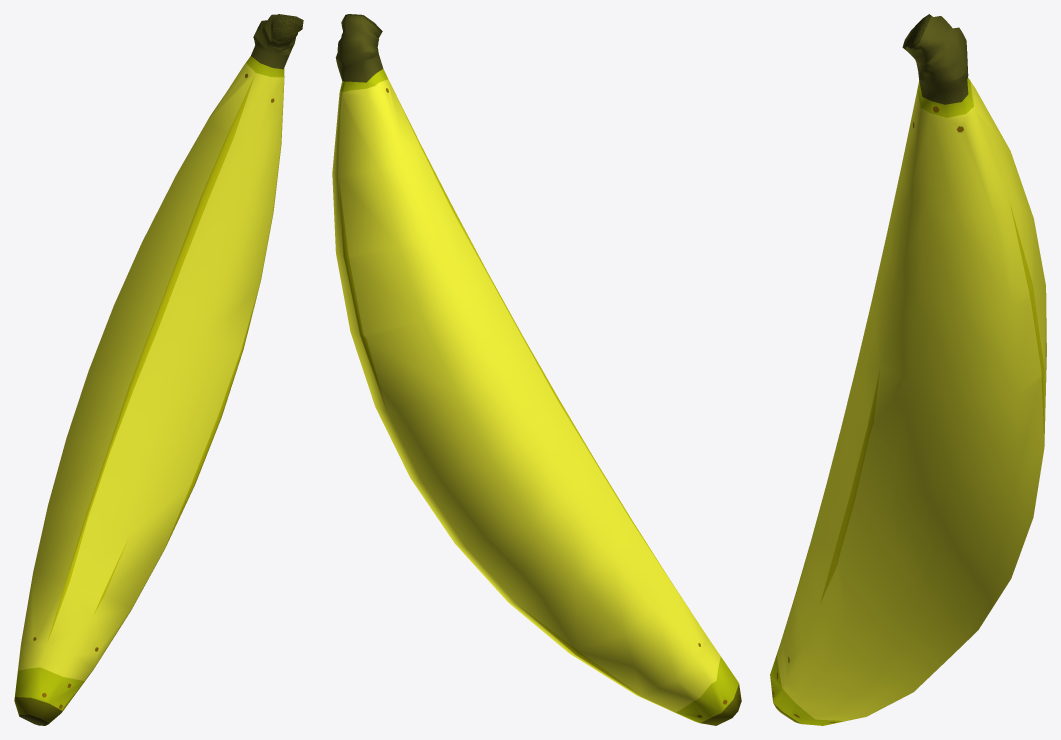
Rendered from banana.dae.
The picture shows the model from 3 angles, left to right: view 1: azimuth 30°, elevation 25°; view 2: azimuth 150°, elevation 25°; view 3: azimuth 270°, elevation 25°; orthographic projection. The views are drawn at different scales.
Visible parts, largest first — view 1: SketchUp (×7); view 2: SketchUp (×5); view 3: SketchUp (×6).
Part boxes in pixels (x1,y1,x2,y2): SketchUp (×7): (14,14,303,723); SketchUp (×5): (332,15,738,722); SketchUp (×6): (770,16,1046,725).
Bounding box in the file's own units: 4.6 × 2.29 × 8.34.
